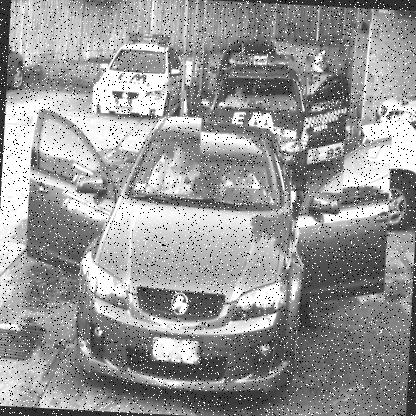Car: (17, 109, 392, 409), (197, 51, 348, 194), (90, 31, 192, 127), (335, 117, 415, 229), (209, 36, 276, 97), (375, 90, 415, 124), (6, 41, 23, 88)
